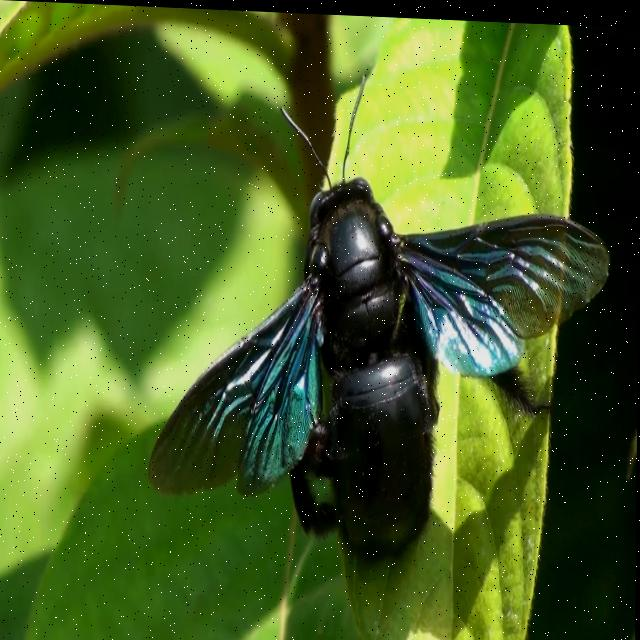Xylocopa: (137, 50, 617, 589)
